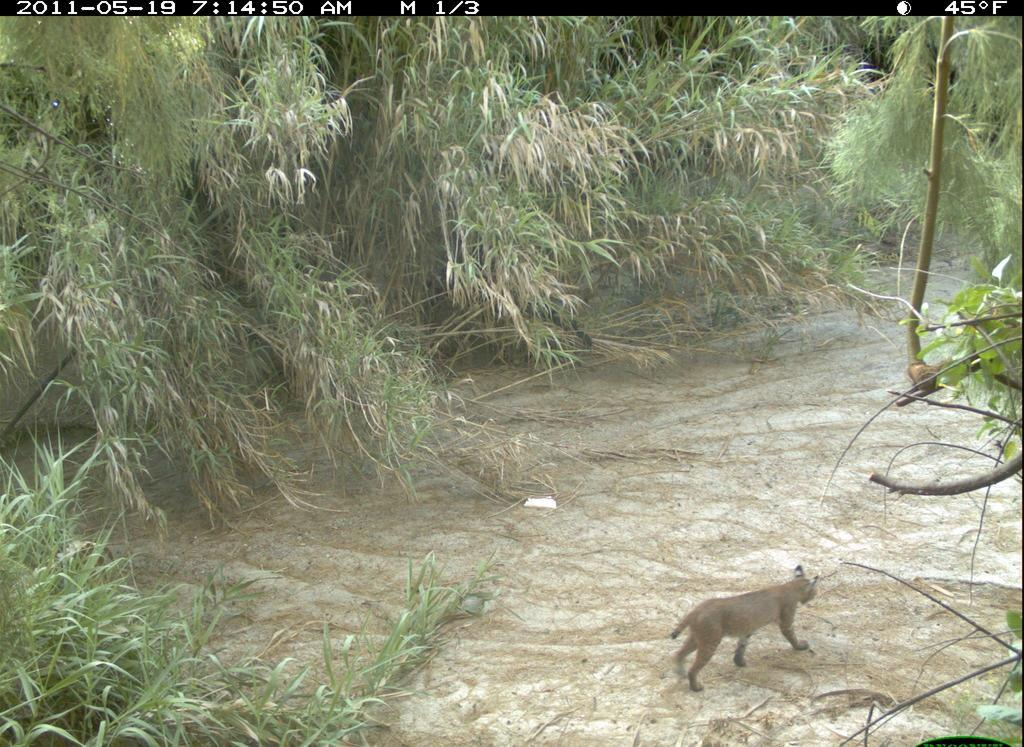bobcat: (670, 562, 822, 696)
